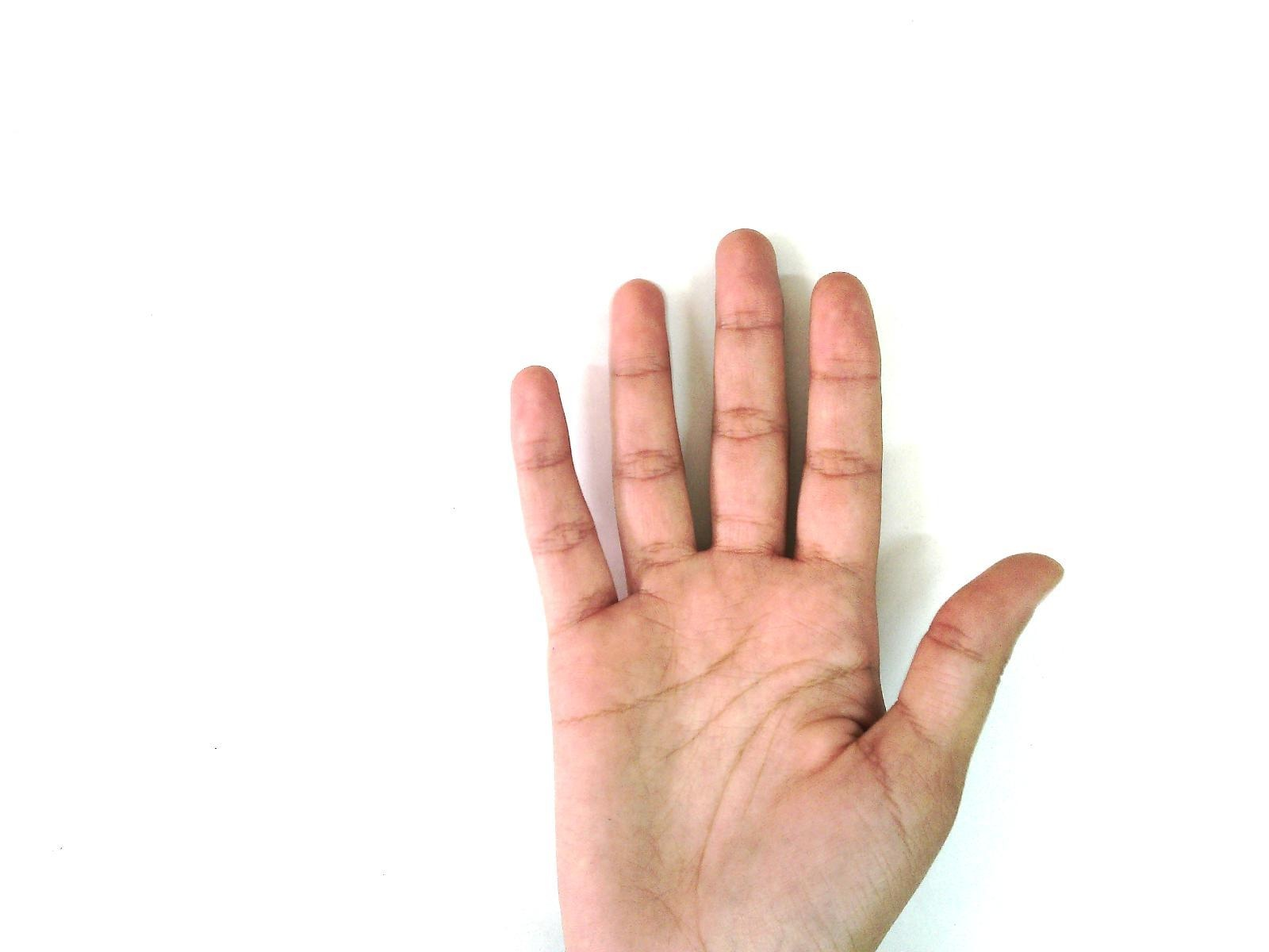open_palm: (506, 227, 1066, 951)
